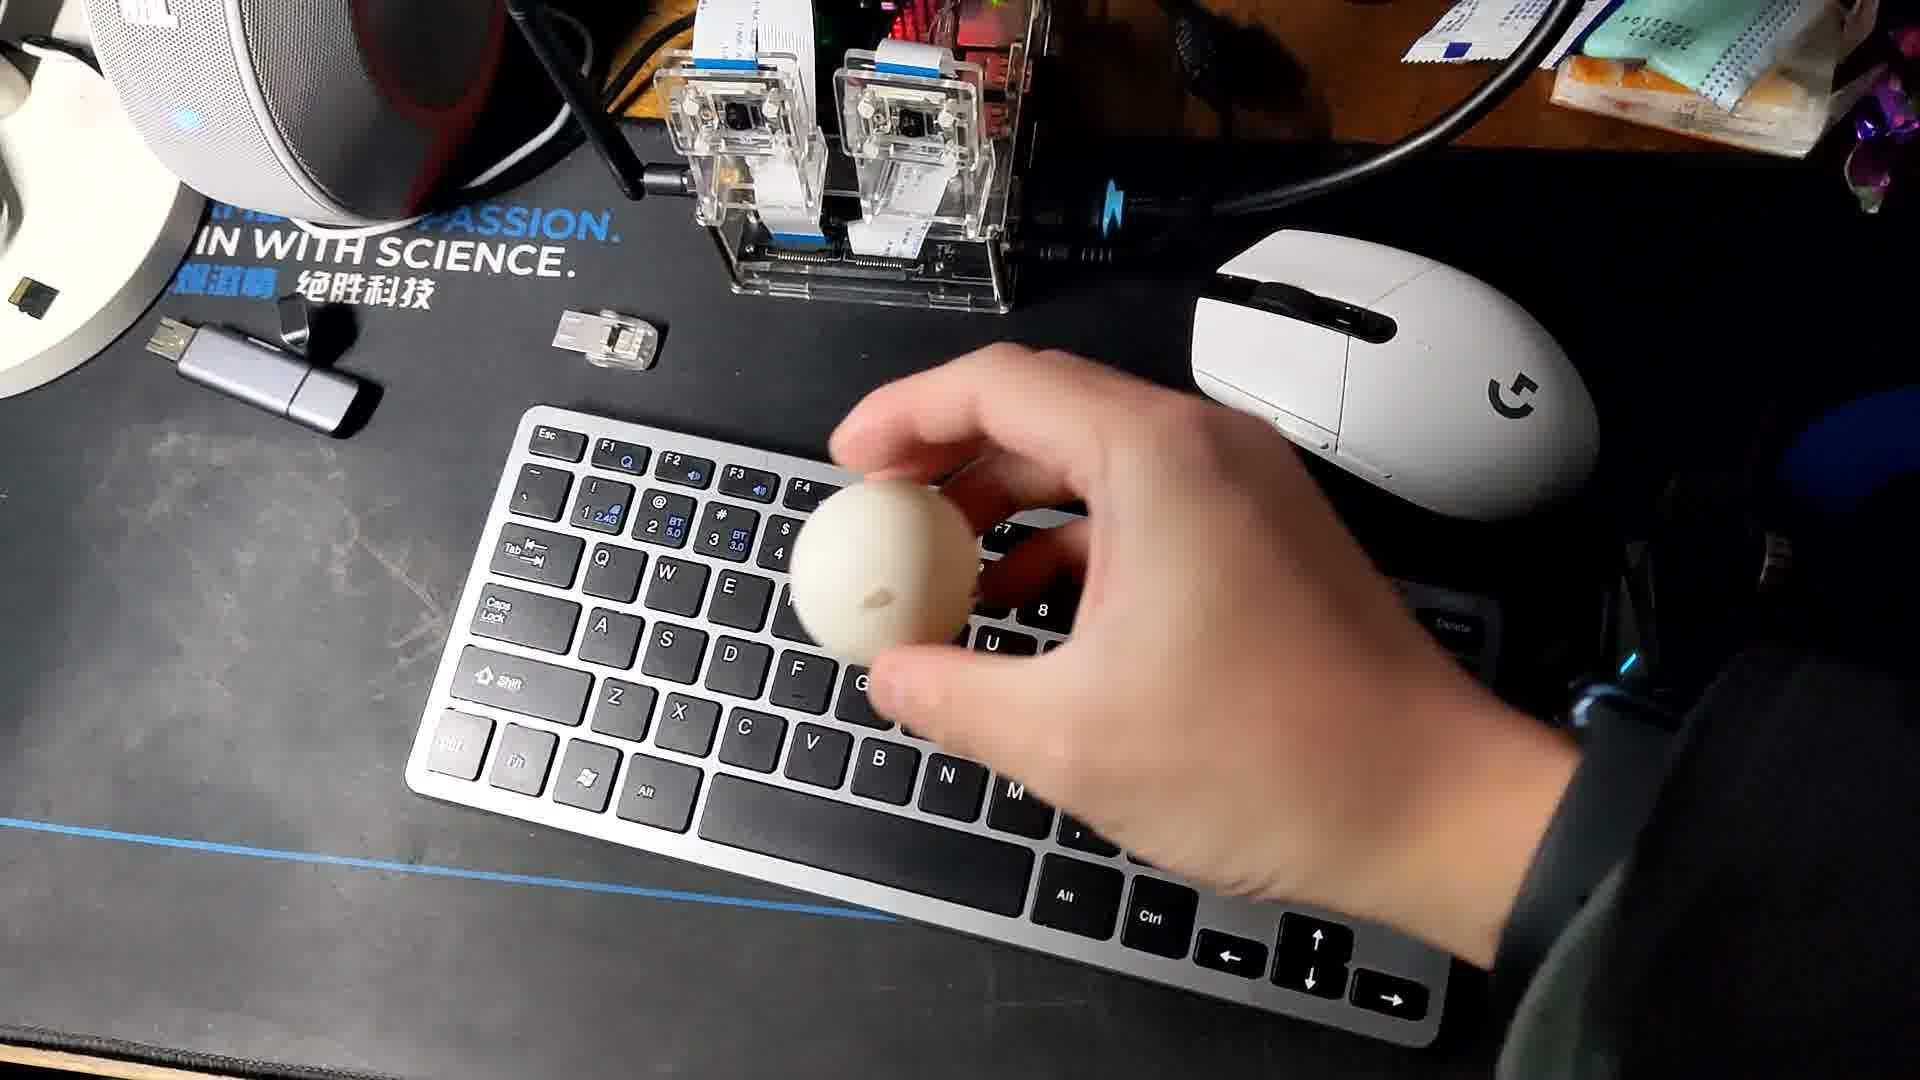Ball: (785, 483, 978, 655)
